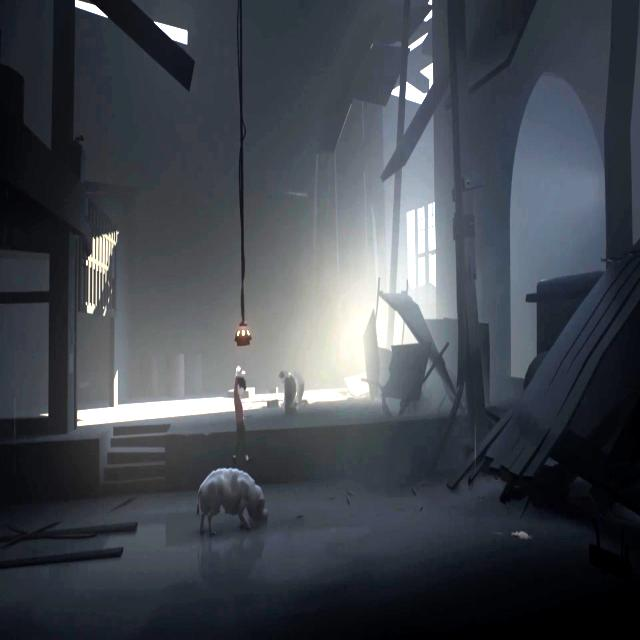boy: (232, 366, 250, 464)
zombie: (279, 372, 296, 414)
